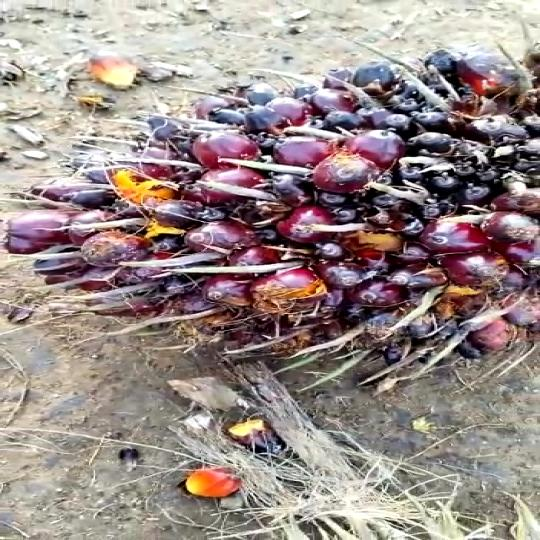kurang masak: (0, 41, 540, 398)
